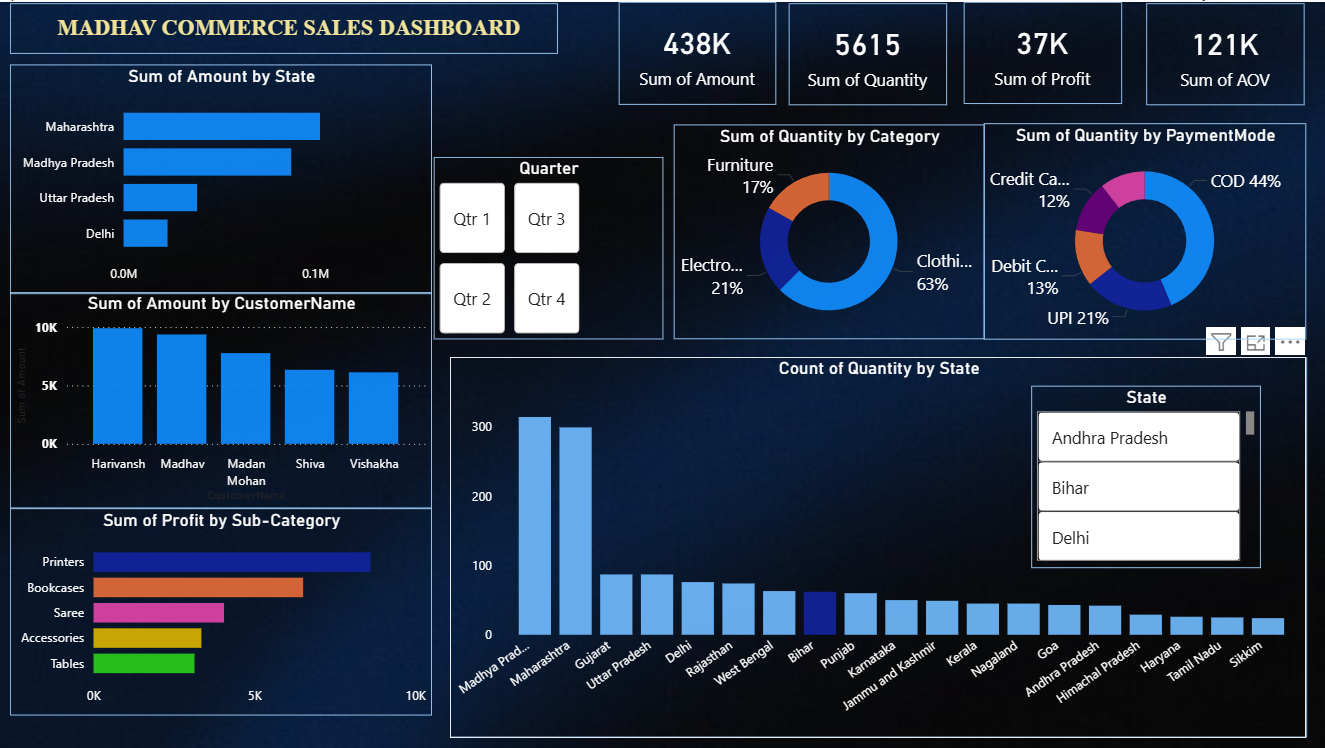

The page's visual inventory and layout, read from the dashboard file:
{"tool":"powerbi","page":{"name":"Page 1","canvas":[1280,720],"ordinal":0},"visuals":[{"type":"textbox","box":[10,1.2,528.8,48.8],"z":0},{"type":"columnChart","fields":{"Y":["CountNonNull(Details.Quantity)"],"Category":["Orders.State"]},"box":[433.8,342.5,827.5,367.5],"z":1000},{"type":"barChart","fields":{"Category":["Details.Sub-Category"],"Y":["Sum(Details.Profit)"]},"box":[10,488.8,407.5,200],"z":2000},{"type":"donutChart","fields":{"Y":["Sum(Details.Quantity)"],"Category":["Details.PaymentMode"]},"box":[950,117.5,311.2,208.8],"z":3000},{"type":"donutChart","fields":{"Category":["Details.Category"],"Y":["Sum(Details.Quantity)"]},"box":[650,118.8,300,207.5],"z":4000},{"type":"card","fields":{"Values":["Sum(Details.Amount)"]},"box":[597.2,0,152,98.9],"z":5000},{"type":"card","fields":{"Values":["Sum(Details.Quantity)"]},"box":[761.2,1.2,152.5,98.8],"z":6000},{"type":"card","fields":{"Values":["Sum(Details.Profit)"]},"box":[930,0,152.5,98.8],"z":7000},{"type":"card","fields":{"Values":["Sum(Details.AOV)"]},"box":[1106.2,1.2,152.5,98.8],"z":8000},{"type":"barChart","fields":{"Category":["Orders.State"],"Y":["Sum(Details.Amount)"]},"box":[10,60,407.5,221.2],"z":9000},{"type":"columnChart","fields":{"Category":["Orders.CustomerName"],"Y":["Sum(Details.Amount)"]},"box":[10,280,407.5,208.8],"z":10000},{"type":"advancedSlicerVisual","fields":{"Values":["Orders.Order Date.Variation.Date Hierarchy.Quarter"]},"box":[418.8,150,221.2,176.2],"z":11000},{"type":"advancedSlicerVisual","fields":{"Values":["Orders.State"]},"box":[995,370,221.2,176.2],"z":12000}]}

Visuals, with their boxes in screenshot pixels (x1, y1, x2, y2), scaled from the page's 1280x720 canvas onto the 1325x748 screenshot:
textbox: 10,1,558,52
columnChart - CountNonNull(Details.Quantity) x Orders.State: 449,356,1306,738
barChart - Details.Sub-Category x Sum(Details.Profit): 10,508,432,716
donutChart - Sum(Details.Quantity) x Details.PaymentMode: 983,122,1306,339
donutChart - Details.Category x Sum(Details.Quantity): 673,123,983,339
card - Sum(Details.Amount): 618,0,776,103
card - Sum(Details.Quantity): 788,1,946,104
card - Sum(Details.Profit): 963,0,1121,103
card - Sum(Details.AOV): 1145,1,1303,104
barChart - Orders.State x Sum(Details.Amount): 10,62,432,292
columnChart - Orders.CustomerName x Sum(Details.Amount): 10,291,432,508
advancedSlicerVisual - Orders.Order Date.Variation.Date Hierarchy.Quarter: 434,156,662,339
advancedSlicerVisual - Orders.State: 1030,384,1259,567
